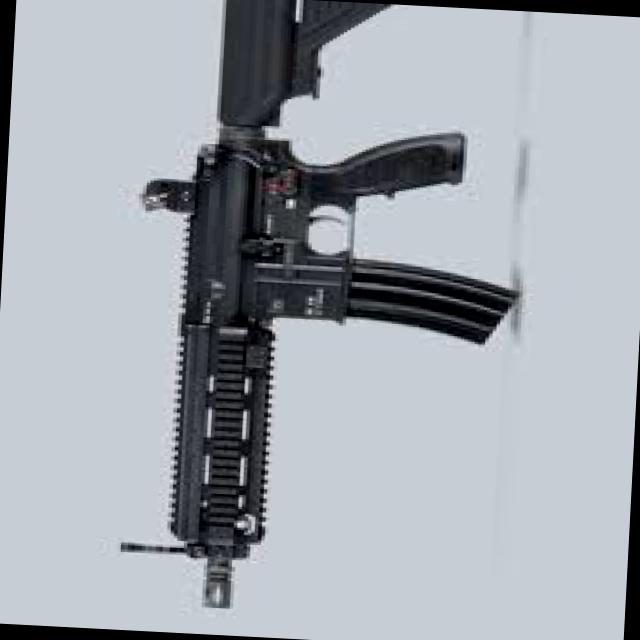long weapon: (140, 10, 533, 638)
